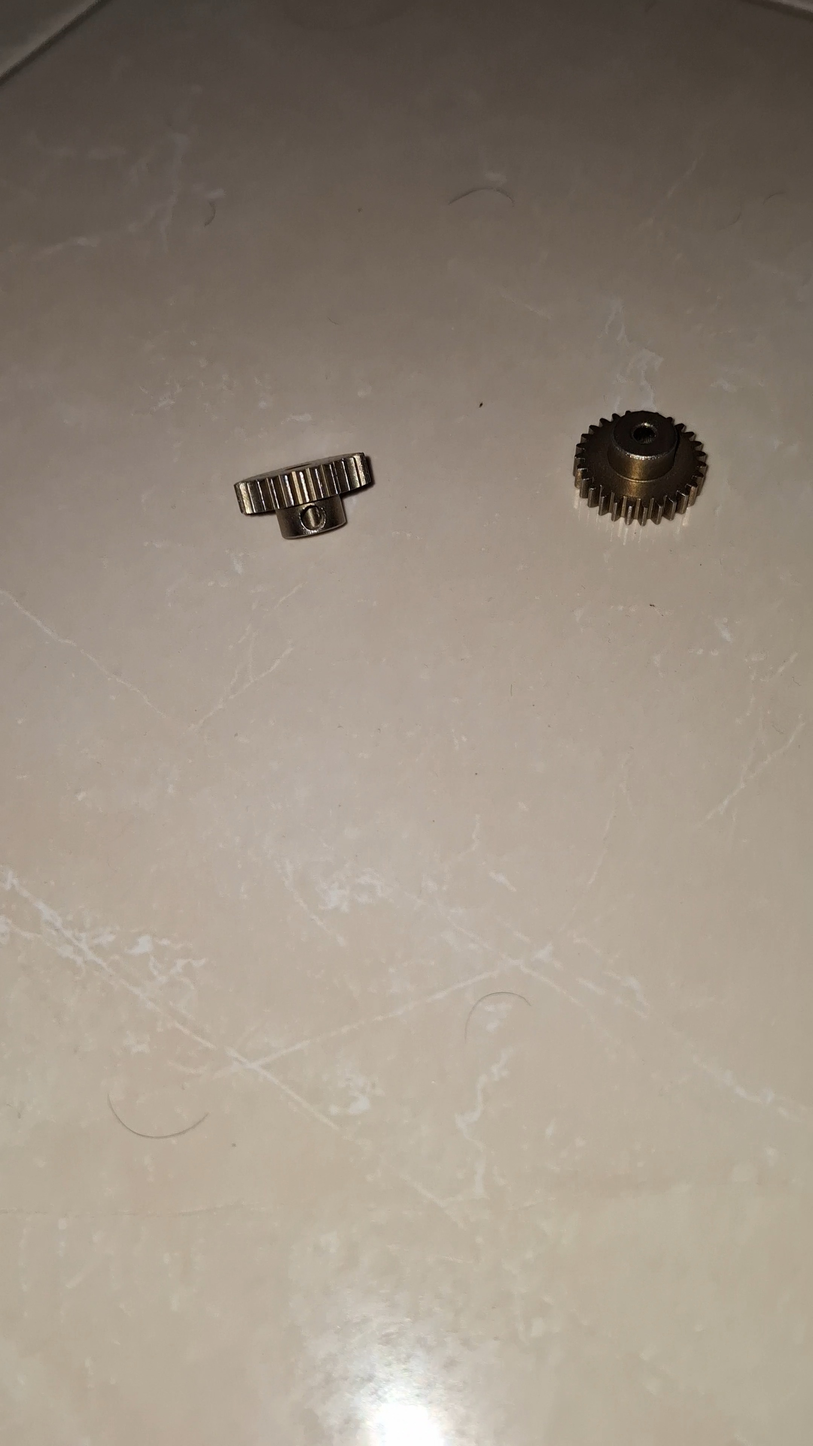spur gear: (575, 406, 708, 518), (240, 451, 378, 532)
